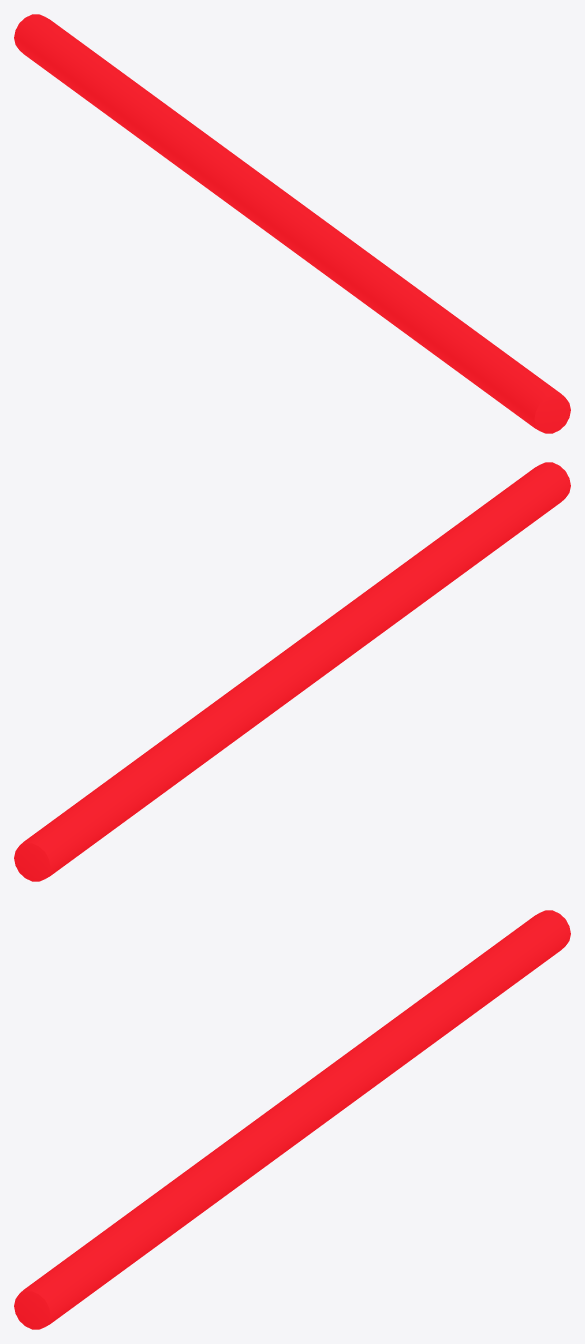
File: laser_beam2.glb
3 renders of one model, top to bottom at view 1: azimuth 30°, elevation 25°; view 2: azimuth 150°, elevation 25°; view 3: azimuth 330°, elevation 25°, orthographic.
Visible parts, largest first — view 1: Cylinder; view 2: Cylinder; view 3: Cylinder.
Boxes of the visible parts, x1,y1,x2,y2 form: Cylinder: (14, 14, 570, 433); Cylinder: (14, 462, 570, 881); Cylinder: (14, 910, 570, 1329).
Size of the model in its own units: 0.0336 by 0.0336 by 0.8055.
